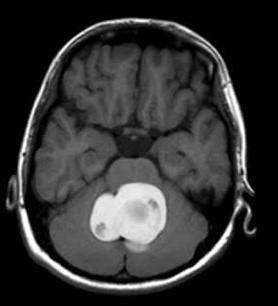Tumour-Meningioma: (83, 176, 179, 254)
